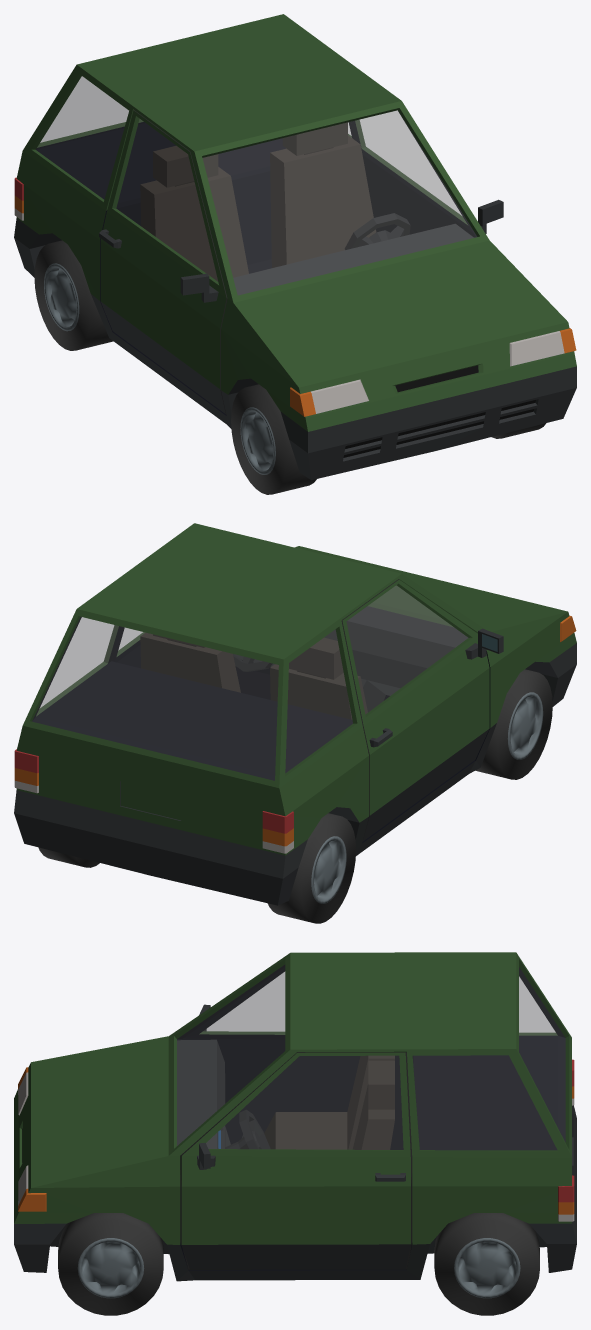
The model's file is car.glb.
3 views of the same model, one above another, from view 1: azimuth 30°, elevation 25°; view 2: azimuth 150°, elevation 25°; view 3: azimuth 270°, elevation 25° (orthographic). The views are drawn at different scales.
Parts seen in each view (by area): view 1: car body, windows, interior, door r, win door r.001, wheel fr, wheel br, door l, win door l.001; view 2: car body, windows, door r, interior, win door r.001, wheel br, wheel fr, door l; view 3: car body, door l, windows, win door l.001, interior, door r, wheel bl, wheel fl, win door r.001.
Boxes of the visible parts, x1,y1,x2,y2 form: car body: [14, 14, 576, 480]; windows: [36, 76, 476, 294]; interior: [140, 122, 473, 295]; door r: [99, 110, 227, 414]; win door r.001: [116, 119, 217, 280]; wheel fr: [231, 384, 316, 494]; wheel br: [34, 240, 113, 350]; door l: [351, 111, 503, 237]; win door l.001: [355, 111, 467, 224]; car body: [14, 523, 576, 905]; windows: [32, 586, 452, 780]; door r: [341, 579, 503, 841]; interior: [140, 606, 468, 719]; win door r.001: [346, 585, 467, 713]; wheel br: [268, 813, 356, 923]; wheel fr: [475, 669, 552, 779]; door l: [111, 626, 144, 668]; car body: [14, 952, 576, 1281]; door l: [180, 1052, 412, 1269]; windows: [177, 965, 565, 1149]; win door l.001: [206, 1056, 403, 1149]; interior: [177, 1039, 394, 1149]; door r: [182, 967, 403, 1149]; wheel bl: [434, 1213, 539, 1315]; wheel fl: [58, 1213, 163, 1315]; win door r.001: [200, 972, 284, 1034].
Bounding box in the file's own units: 2.18 × 1.71 × 3.46.
Materials: 2 (2 with a texture image).
